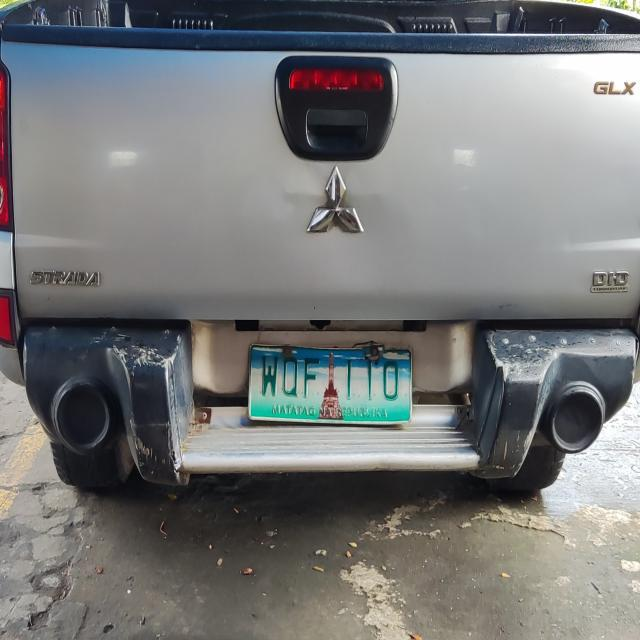LicensePlate: (228, 338, 430, 428)
